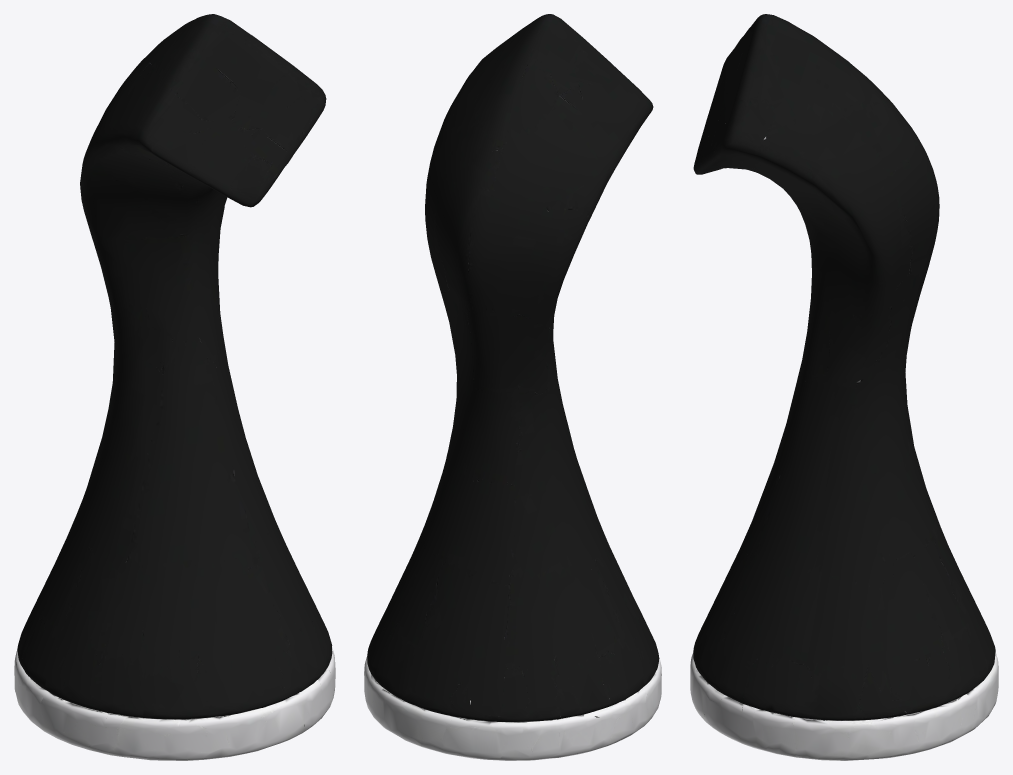
File: knight-black.glb
3 renders of one model, left to right at view 1: azimuth 30°, elevation 25°; view 2: azimuth 150°, elevation 25°; view 3: azimuth 270°, elevation 25°, orthographic. The views are drawn at different scales.
Bounding box in the file's own units: 0.5541 × 1.35 × 0.5528.
Materials: 1 (1 with a texture image).
